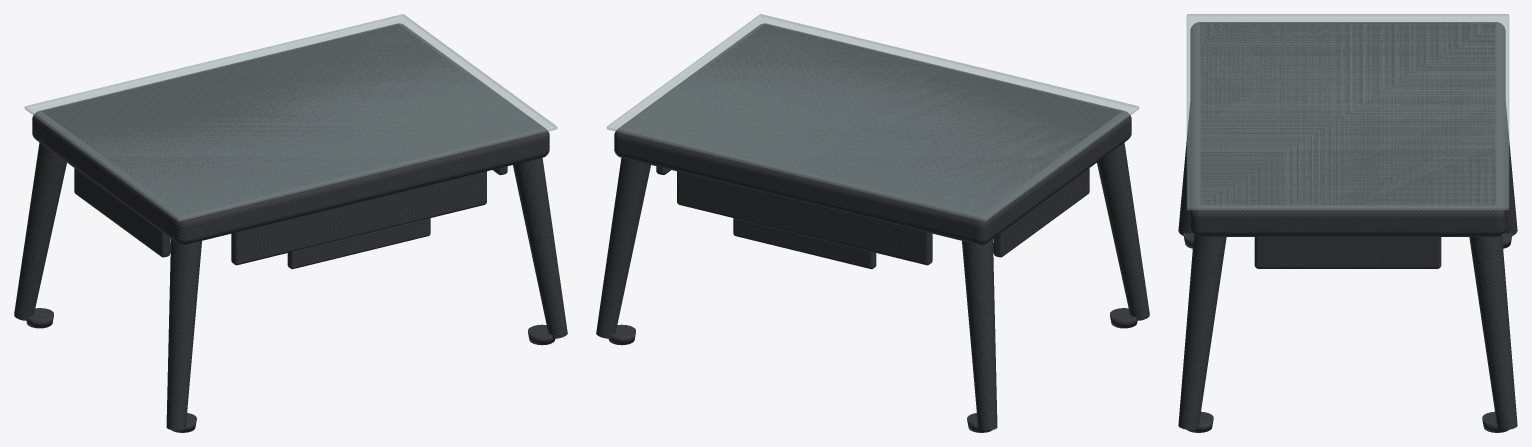
The model's file is oshxona-stoli-milano.glb.
3 views of the same model, side by side, from view 1: azimuth 30°, elevation 25°; view 2: azimuth 150°, elevation 25°; view 3: azimuth 270°, elevation 25° (orthographic). The views are drawn at different scales.
Parts seen in each view (by area): view 1: furniture; view 2: furniture; view 3: furniture.
Part boxes in pixels (box(x1,y1,x2,y2)): furniture: box(14, 14, 567, 432); furniture: box(596, 14, 1149, 432); furniture: box(1178, 14, 1517, 432).
Bounding box in the file's own units: 1.42 × 0.732 × 0.9996.
Materials: 2 (1 with a texture image).
